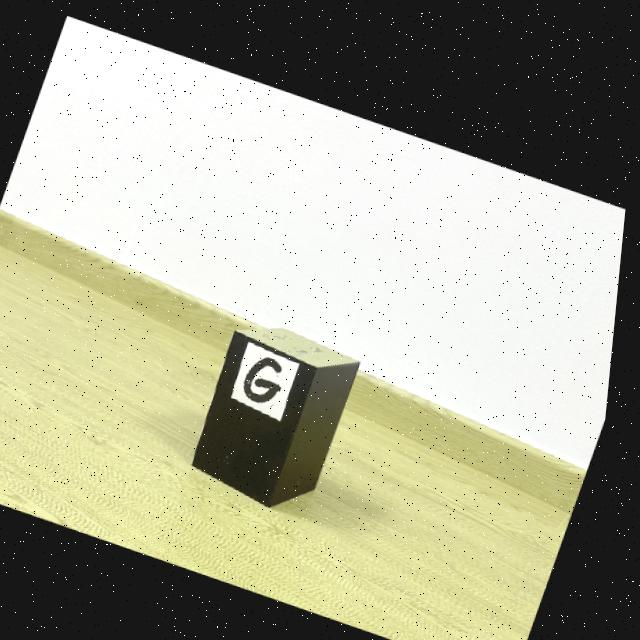G: (251, 352, 289, 398)
